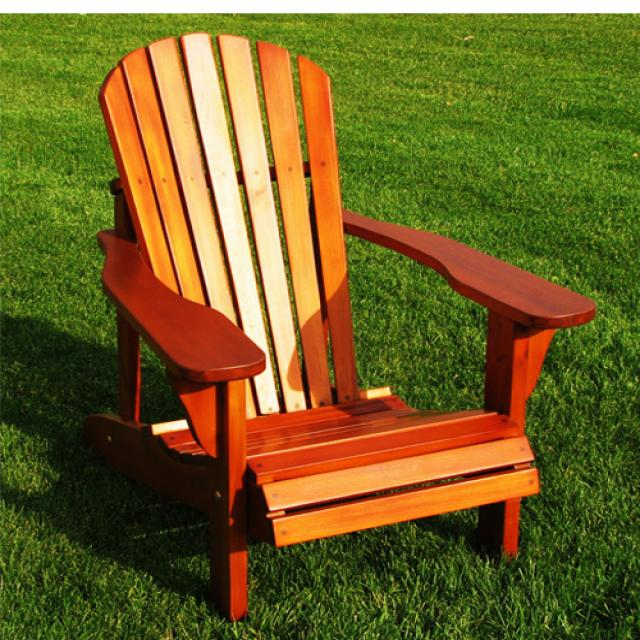Woods: (84, 34, 598, 624)
